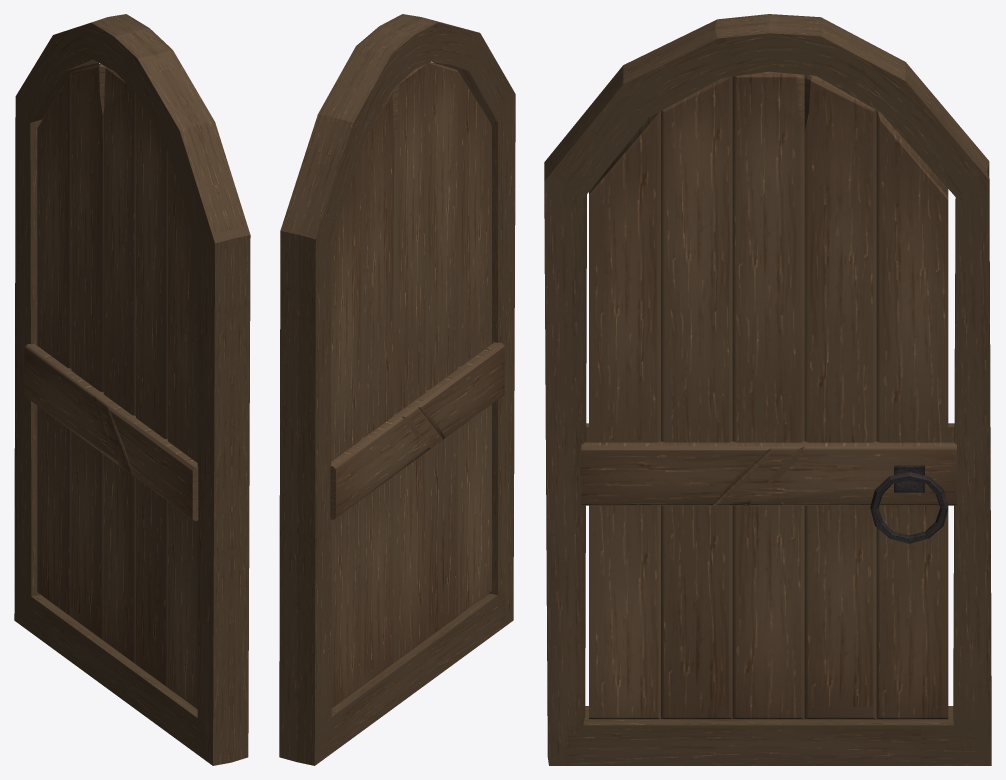
Rendered from portone.fbx.
The picture shows the model from 3 angles, left to right: view 1: azimuth 30°, elevation 25°; view 2: azimuth 150°, elevation 25°; view 3: azimuth 270°, elevation 25°; orthographic projection. The views are drawn at different scales.
Visible parts, largest first — view 1: Door_1, Frame_2; view 2: Door_1, Frame_2; view 3: Door_1, Frame_2, Handle_0.
Boxes of the visible parts, x1,y1,x2,y2 form: Door_1: (24, 63, 198, 709); Frame_2: (14, 14, 250, 765); Door_1: (330, 62, 504, 707); Frame_2: (279, 14, 515, 765); Door_1: (581, 71, 956, 719); Frame_2: (544, 14, 991, 765); Handle_0: (870, 465, 948, 543).
Size of the model in its own units: 68.04 by 761 by 420.
3 materials, 3 textured.
